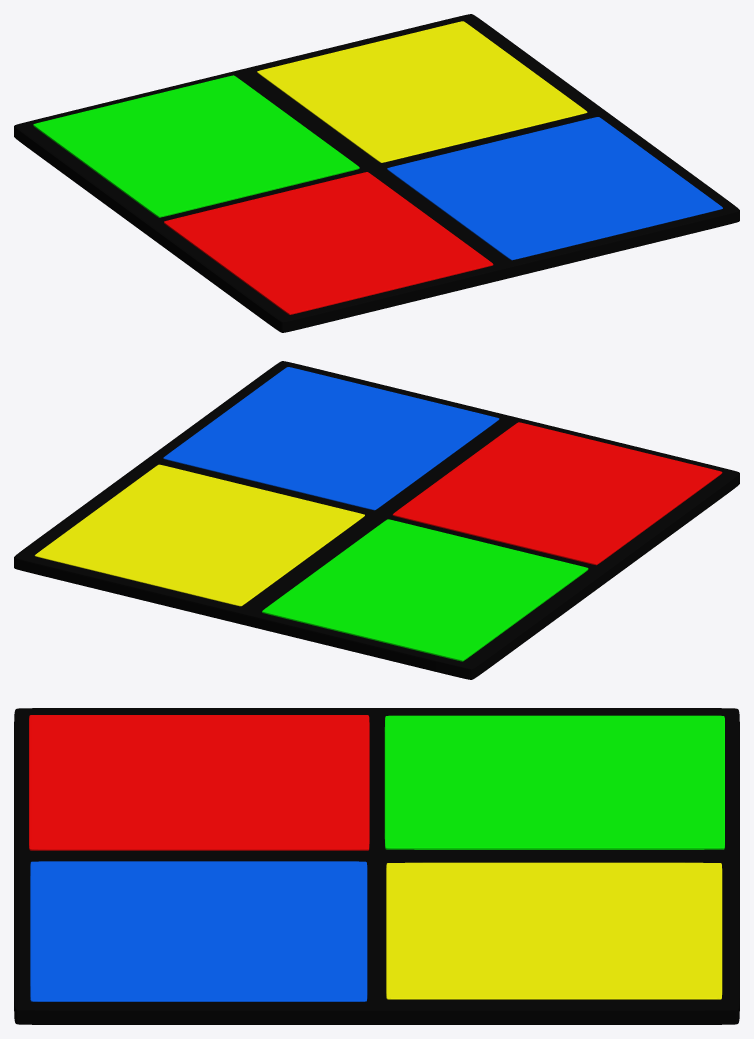
The model's file is dancefloor-fixed.fbx.
3 renders of one model, top to bottom at view 1: azimuth 30°, elevation 25°; view 2: azimuth 150°, elevation 25°; view 3: azimuth 270°, elevation 25°, orthographic. The views are drawn at different scales.
Visible parts, largest first — view 1: Object_6, Object_3, Object_5, Object_4.001, Object_2; view 2: Object_6, Object_3, Object_5, Object_4.001, Object_2; view 3: Object_3, Object_4.001, Object_5, Object_6, Object_2.
Part boxes in pixels (x1,y1,x2,y2): Object_6: (14,14,739,332); Object_3: (387,117,722,260); Object_5: (164,172,493,314); Object_4.001: (257,21,587,162); Object_2: (33,75,359,217); Object_6: (14,361,739,679); Object_3: (163,367,499,510); Object_5: (392,422,722,565); Object_4.001: (34,464,364,606); Object_2: (262,519,588,661); Object_3: (30,861,367,1001); Object_4.001: (386,862,722,999); Object_5: (29,715,369,850); Object_6: (14,708,739,1024); Object_2: (384,715,724,849).
Size of the model in its own units: 0.0758 by 0.00204 by 0.0769.
